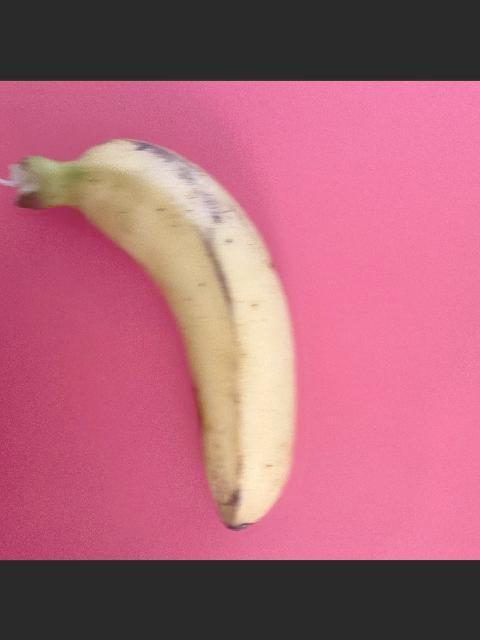banana: (10, 138, 296, 532)
